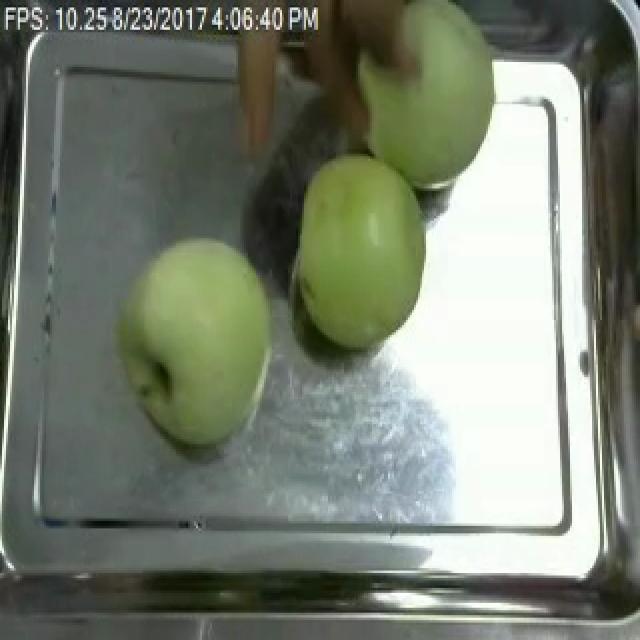50-_ripeness: (131, 222, 267, 455), (292, 159, 463, 340)
